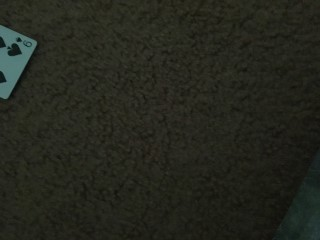NineOfSpades: (1, 24, 38, 100)
